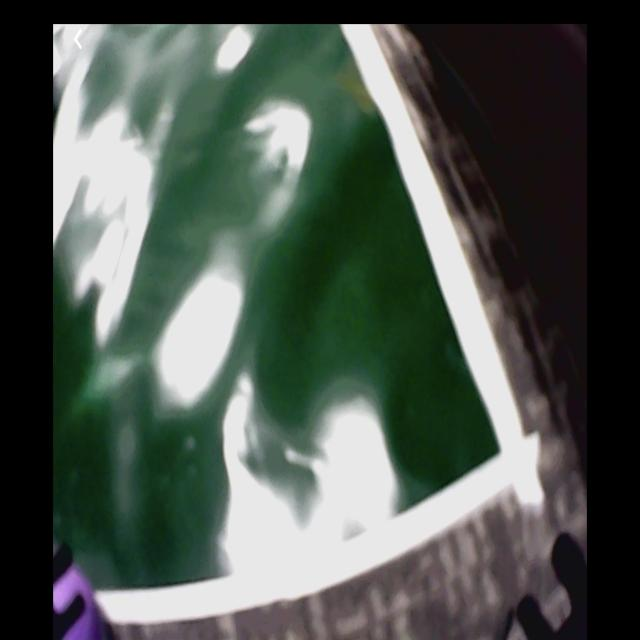ball: (54, 553, 98, 640)
